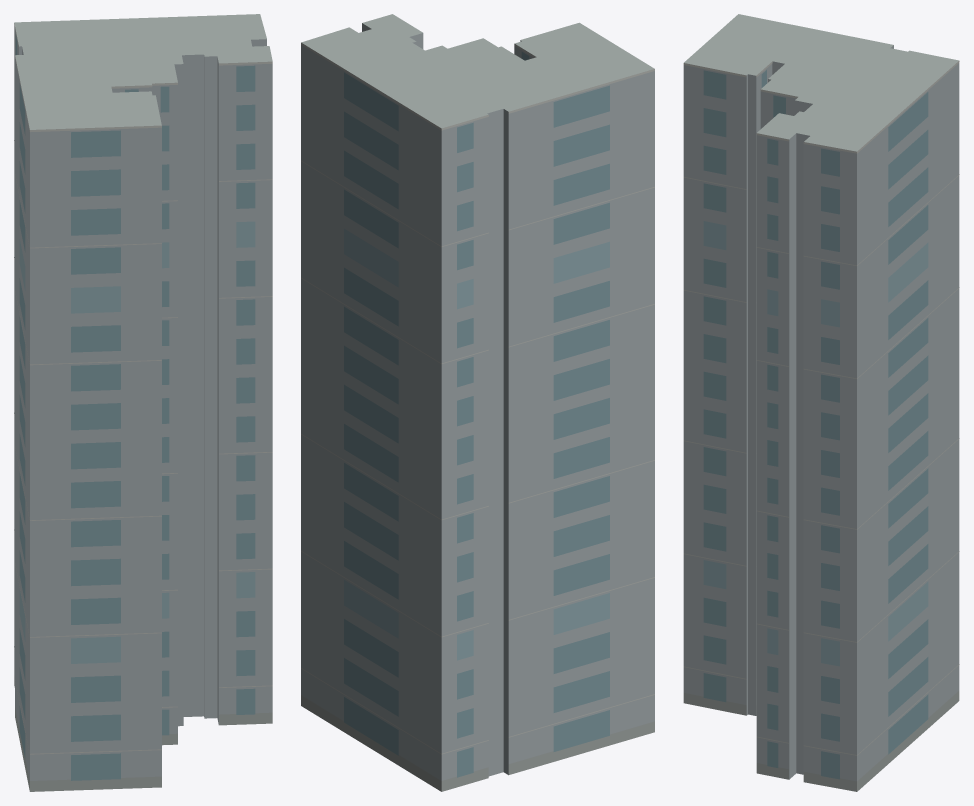
The model's file is survey-upis-32521724.glb.
3 renders of one model, left to right at view 1: azimuth 30°, elevation 25°; view 2: azimuth 150°, elevation 25°; view 3: azimuth 270°, elevation 25°, orthographic. The views are drawn at different scales.
Parts seen in each view (by area): view 1: survey-upis-32521724.tmp; view 2: survey-upis-32521724.tmp; view 3: survey-upis-32521724.tmp.
Part boxes in pixels (box(x1,y1,x2,y2)): survey-upis-32521724.tmp: box(14, 14, 272, 791); survey-upis-32521724.tmp: box(301, 14, 654, 791); survey-upis-32521724.tmp: box(683, 14, 959, 791).
Bounding box in the file's own units: 34.56 × 74.9 × 29.27.
